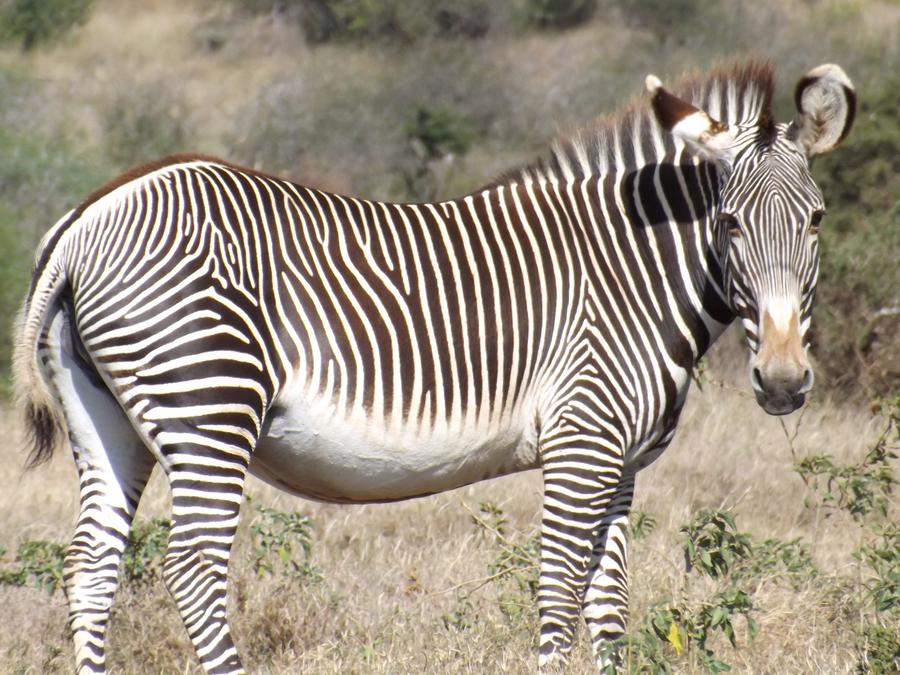zebra_grevys: (37, 138, 656, 481)
